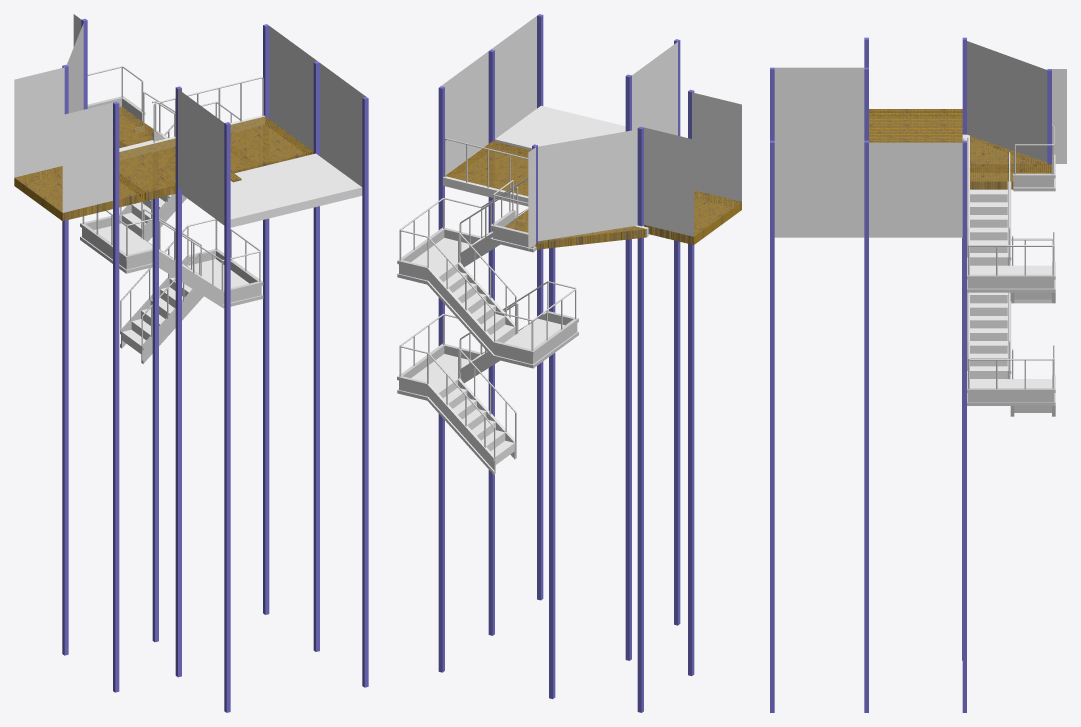
Rendered from Object_TriPlanar_Test.glb.
The picture shows the model from 3 angles, left to right: view 1: azimuth 30°, elevation 25°; view 2: azimuth 150°, elevation 25°; view 3: azimuth 270°, elevation 25°; orthographic projection. The views are drawn at different scales.
Parts seen in each view (by area): view 1: Floor 2x2.117; view 2: Floor 2x2.117; view 3: Floor 2x2.117.
Part boxes in pixels (x1,y1,x2,y2): Floor 2x2.117: [14, 14, 368, 712]; Floor 2x2.117: [397, 14, 741, 712]; Floor 2x2.117: [770, 37, 1066, 712].
Bounding box in the file's own units: 7.62 × 17.04 × 7.92.
3 materials, 1 textured.
